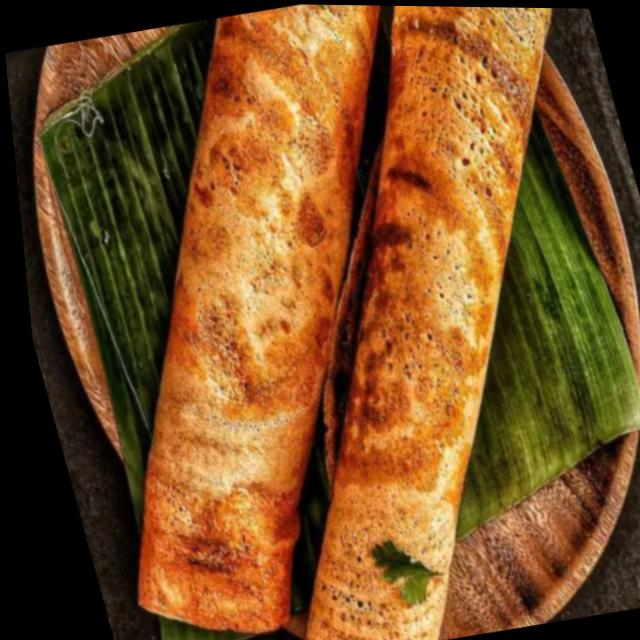DOSA: (305, 6, 549, 640), (137, 4, 376, 631)
